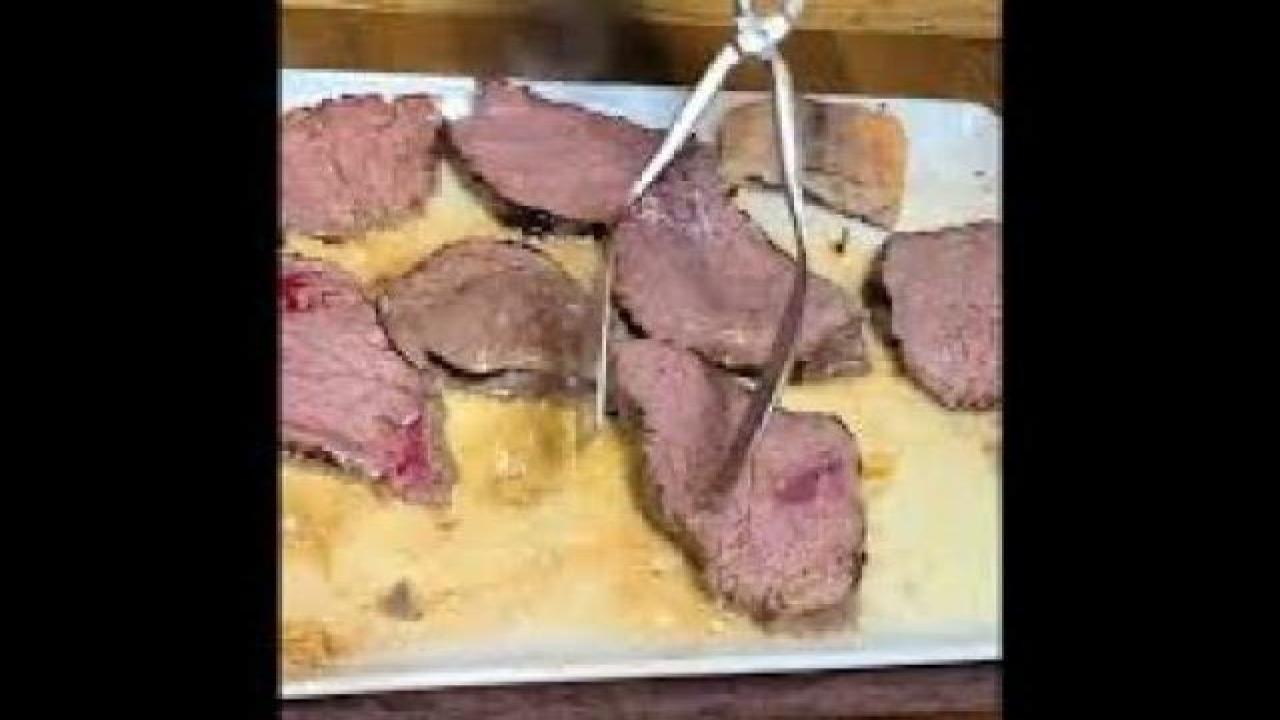Carne: (603, 347, 923, 627), (589, 159, 906, 360), (267, 258, 437, 494), (448, 70, 699, 219), (399, 231, 606, 386), (854, 203, 999, 415), (283, 90, 460, 226)
